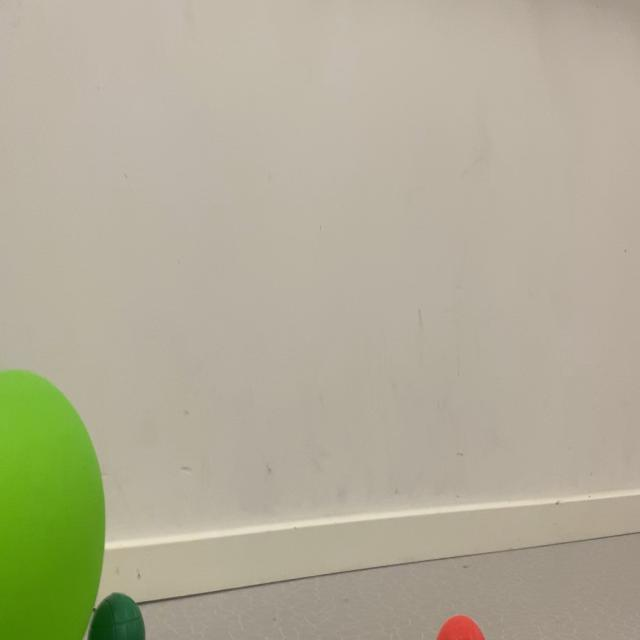7: (425, 574, 490, 640)
red ball: (86, 581, 160, 640)
